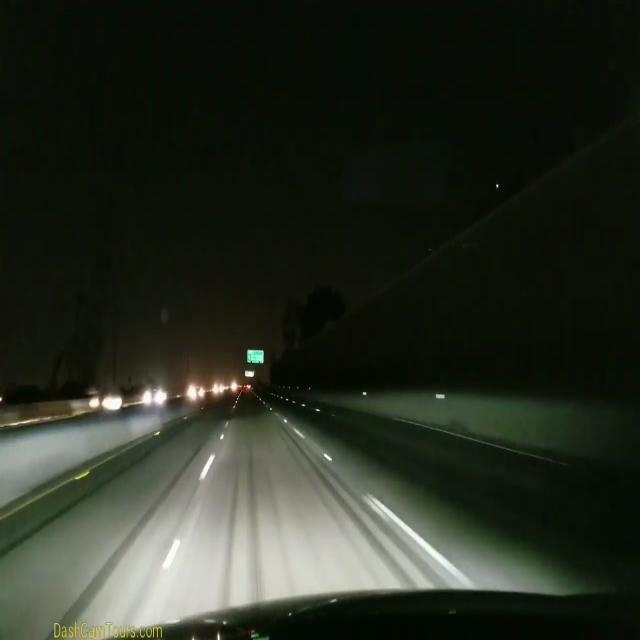street-signs: (247, 349, 264, 364), (246, 370, 253, 377)
